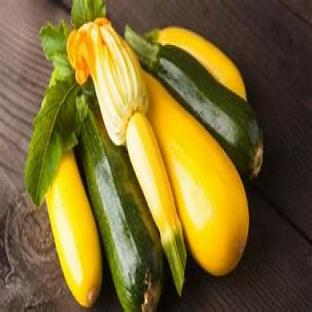Zucchini: (125, 28, 263, 176), (79, 111, 162, 310), (46, 152, 102, 307), (146, 26, 246, 99)
